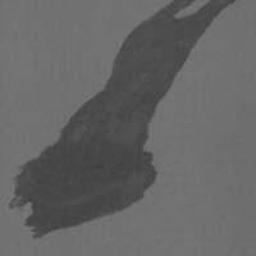Oil spot: (8, 0, 239, 238)
